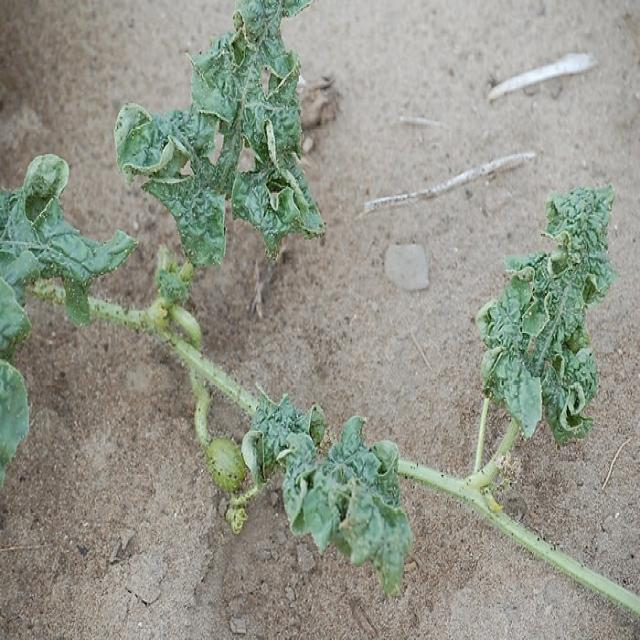Aphids: (118, 2, 329, 274), (472, 189, 619, 446), (240, 401, 414, 609), (0, 146, 138, 327)
